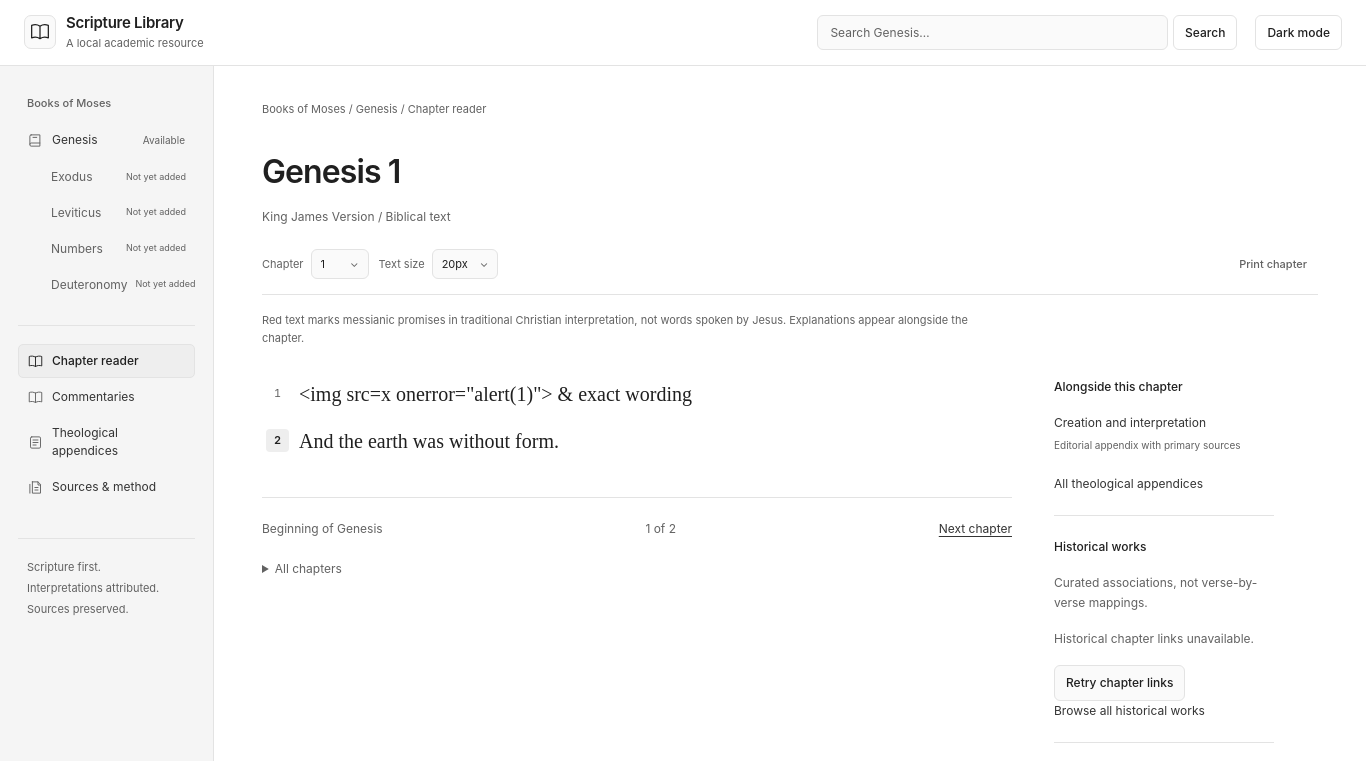
Test case: React reader (component-only mocked API) › renders literal verses on legacy hashes, selects verses, and keeps chapter commentary separate
Expected: the heading "Genesis 1" is shown, x1=262 y1=152 x2=400 y2=191
Expected: the link "Creation and interpretation" is shown, x1=1054 y1=415 x2=1206 y2=430
Click the link "Next chapter". click: (975, 529)
box: x1=939 y1=519 x2=1012 y2=539
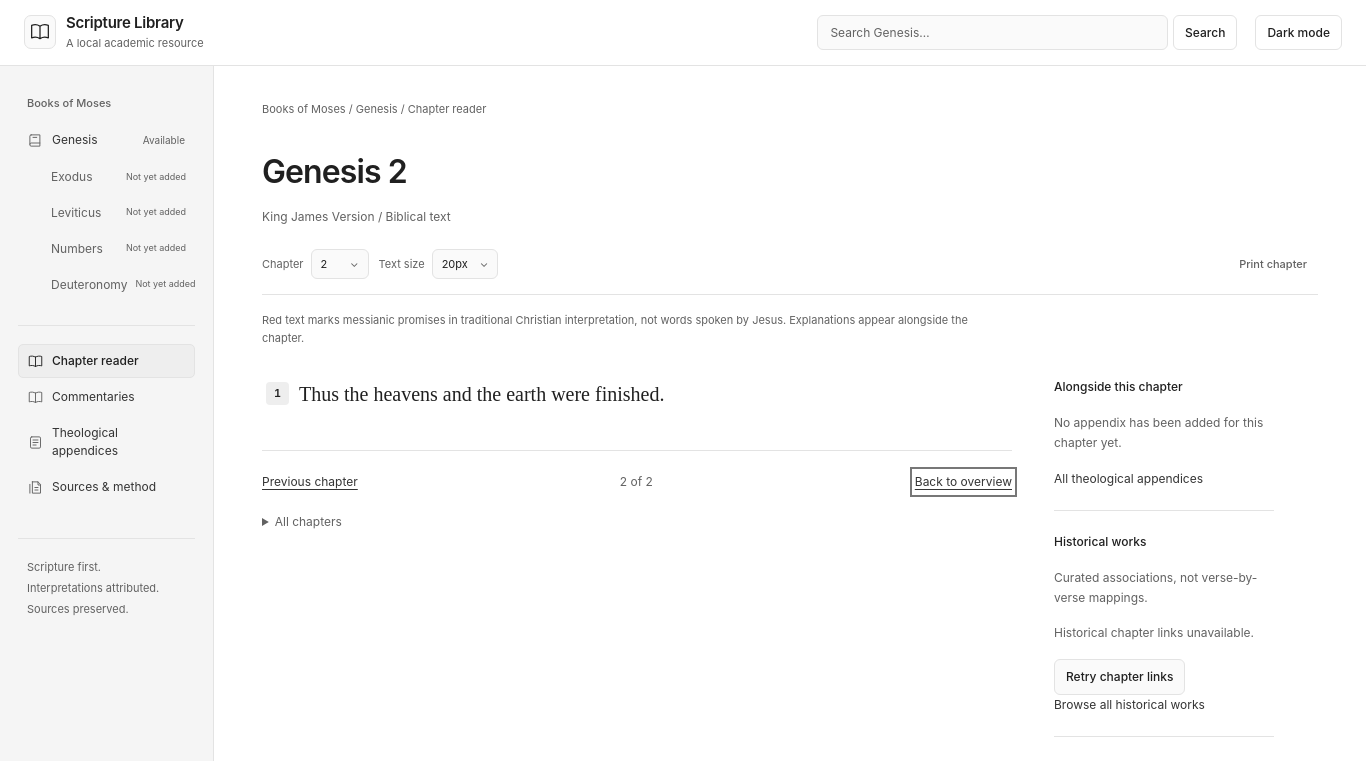
Result: the heading "Genesis 2" is shown at x1=262 y1=152 x2=407 y2=191
Result: the text "No appendix has been added for this chapter yet." is shown at x1=1054 y1=413 x2=1274 y2=453
